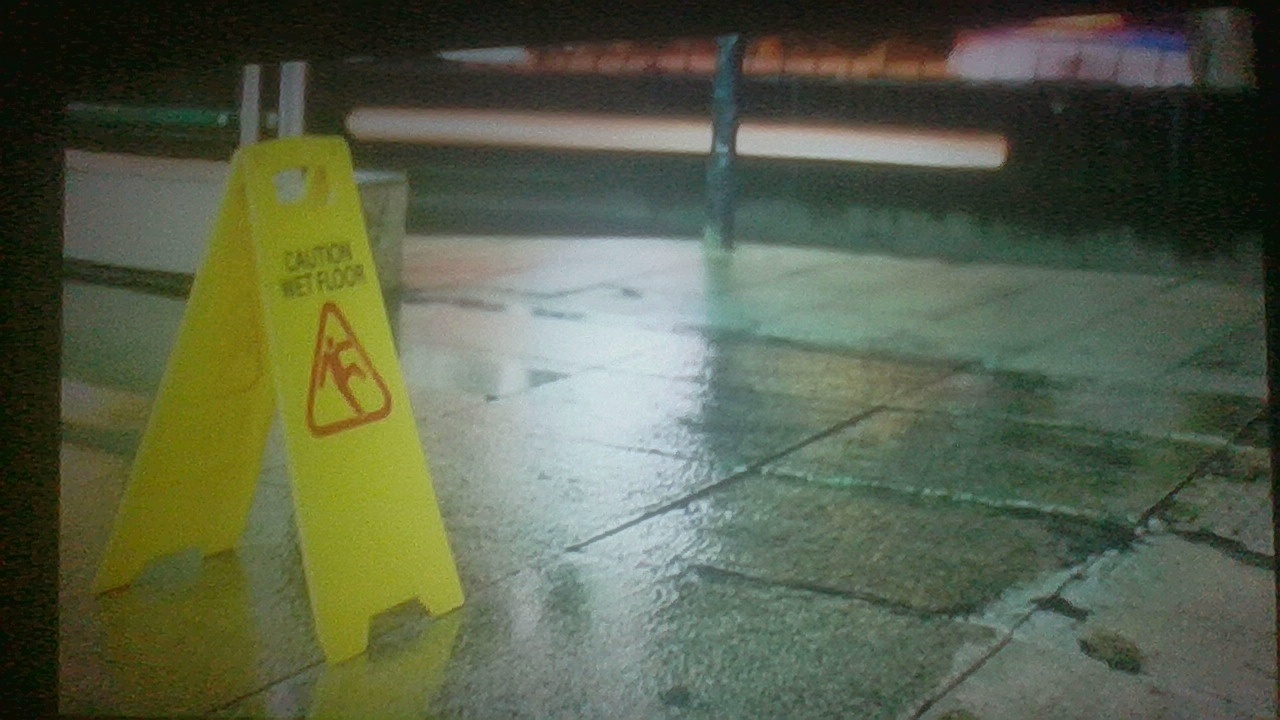slippery_floor: (107, 123, 474, 683)
